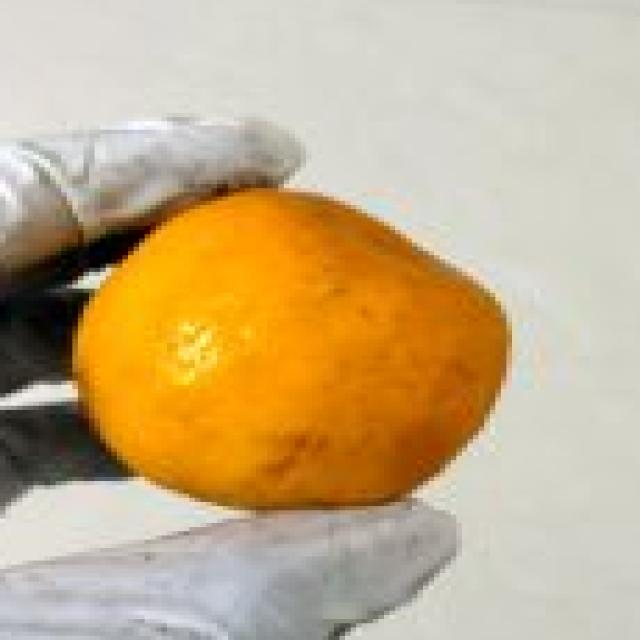Bad_Orange-0-1 day: (67, 188, 512, 506)
